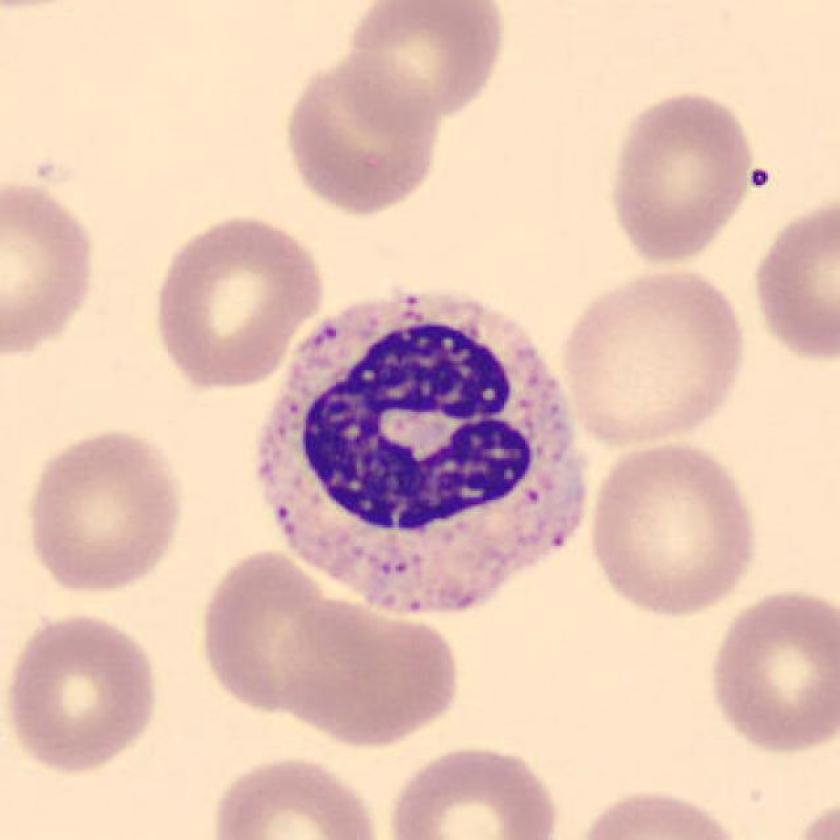neutrophil: (257, 293, 586, 612)
